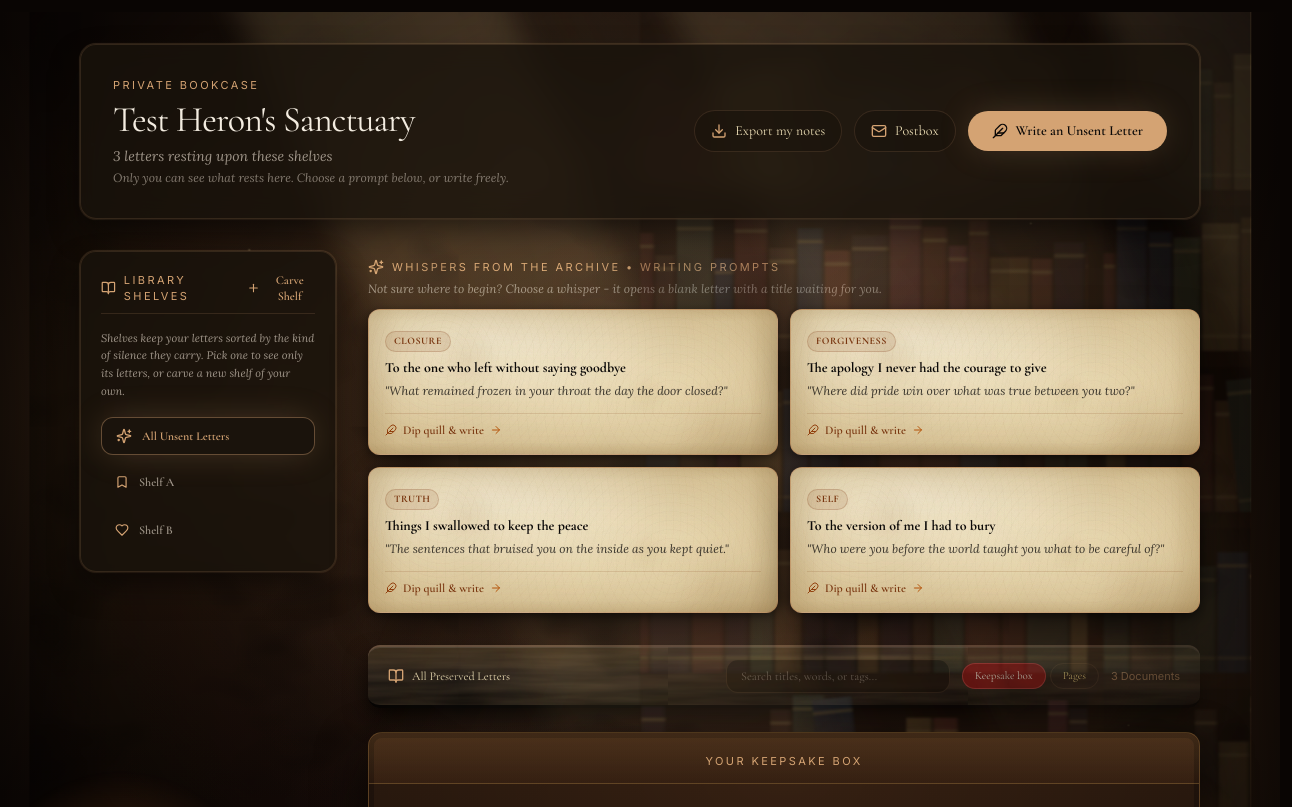
LibraryPage private note export (U8) › exports the demo library with a one-line summary showing no skips
Click the button "Export my notes" at (768, 131), box [694, 110, 842, 152]
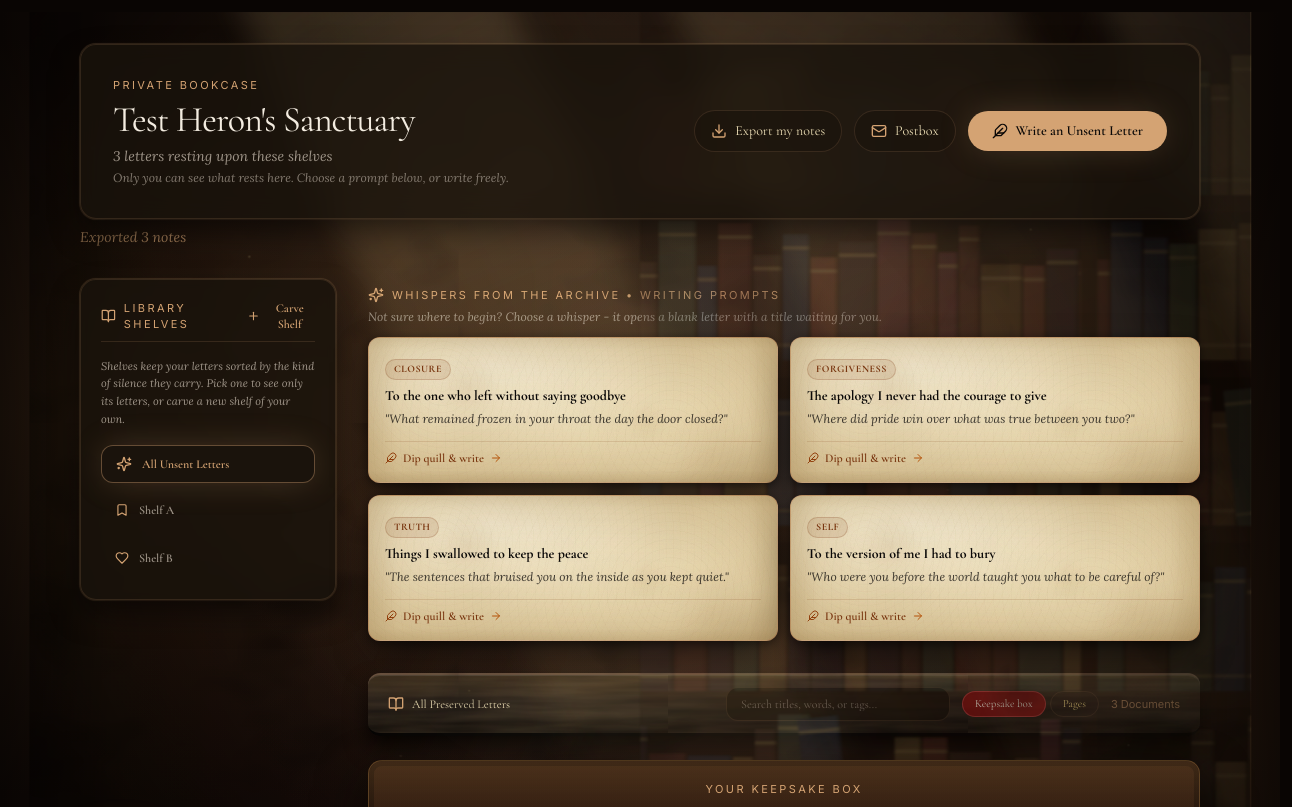
Expected: the message does not show "skipped", [80, 228, 186, 246]
Now the message reads "Exported 3 notes", box [80, 228, 186, 246]
